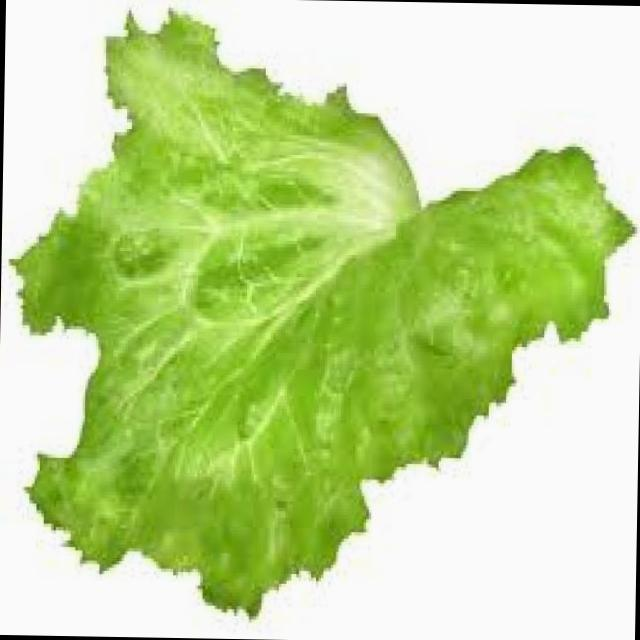Lettuce-Ready-to-Harvest: (16, 14, 630, 612)
